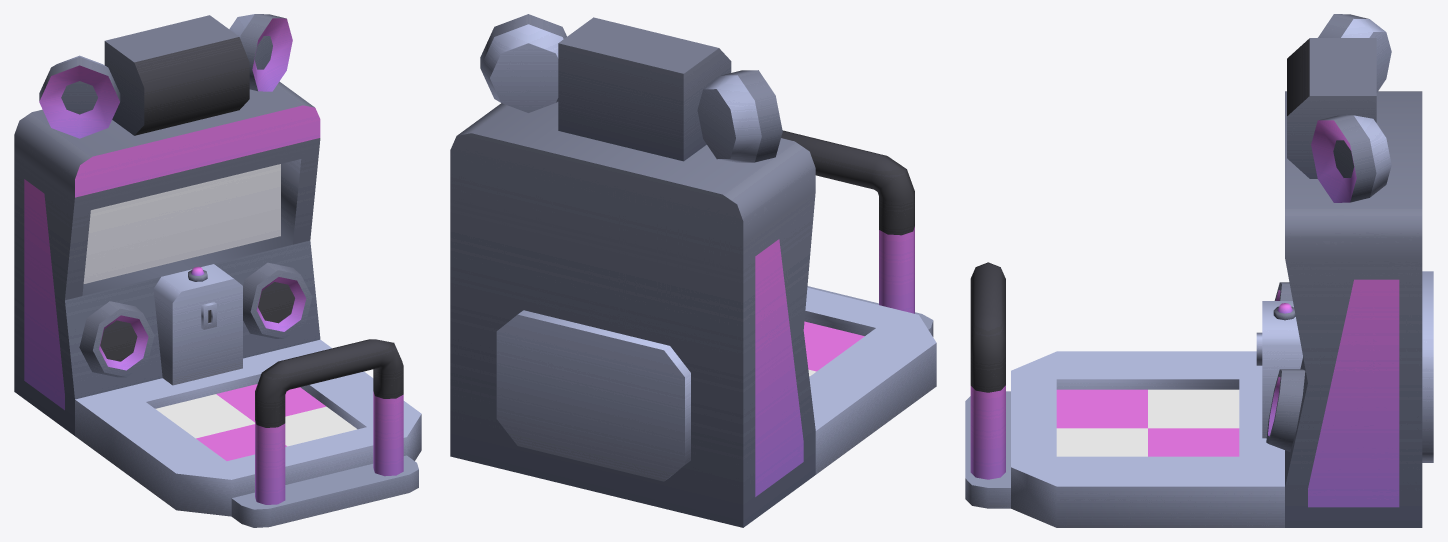
Rendered from dance-machine.glb.
3 renders of one model, left to right at view 1: azimuth 30°, elevation 25°; view 2: azimuth 150°, elevation 25°; view 3: azimuth 270°, elevation 25°, orthographic. The views are drawn at different scales.
Parts seen in each view (by area): view 1: dance-machine; view 2: dance-machine, Group; view 3: dance-machine, Group.
Boxes of the visible parts, x1,y1,x2,y2 form: dance-machine: (14, 14, 421, 527); dance-machine: (450, 14, 936, 527); Group: (496, 310, 690, 481); dance-machine: (965, 14, 1422, 527); Group: (1422, 271, 1433, 462).
Size of the model in its own units: 0.7232 by 0.95 by 1.02.
1 material, 1 textured.
